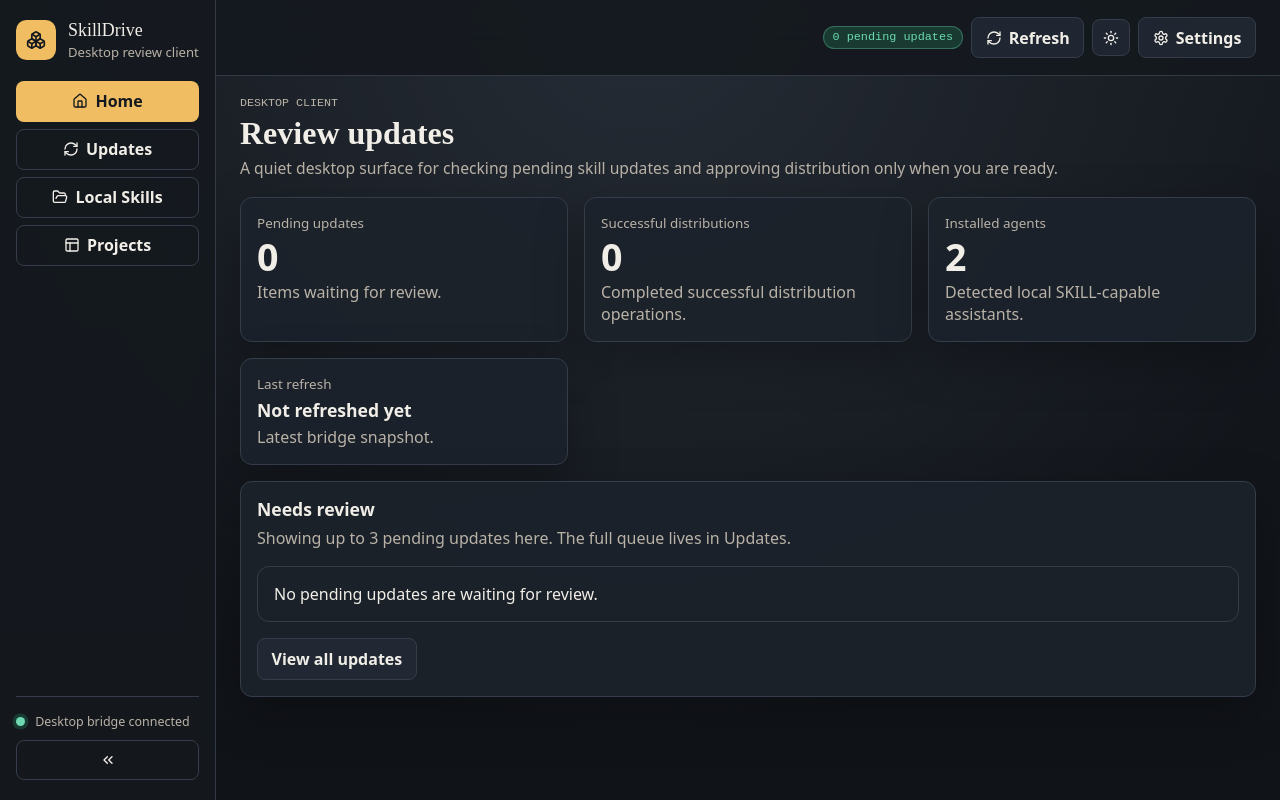
Scenario: App › rolls back the theme when persistence fails
Click the button named "Toggle theme".
click(1111, 38)  # box [1092, 19, 1130, 56]
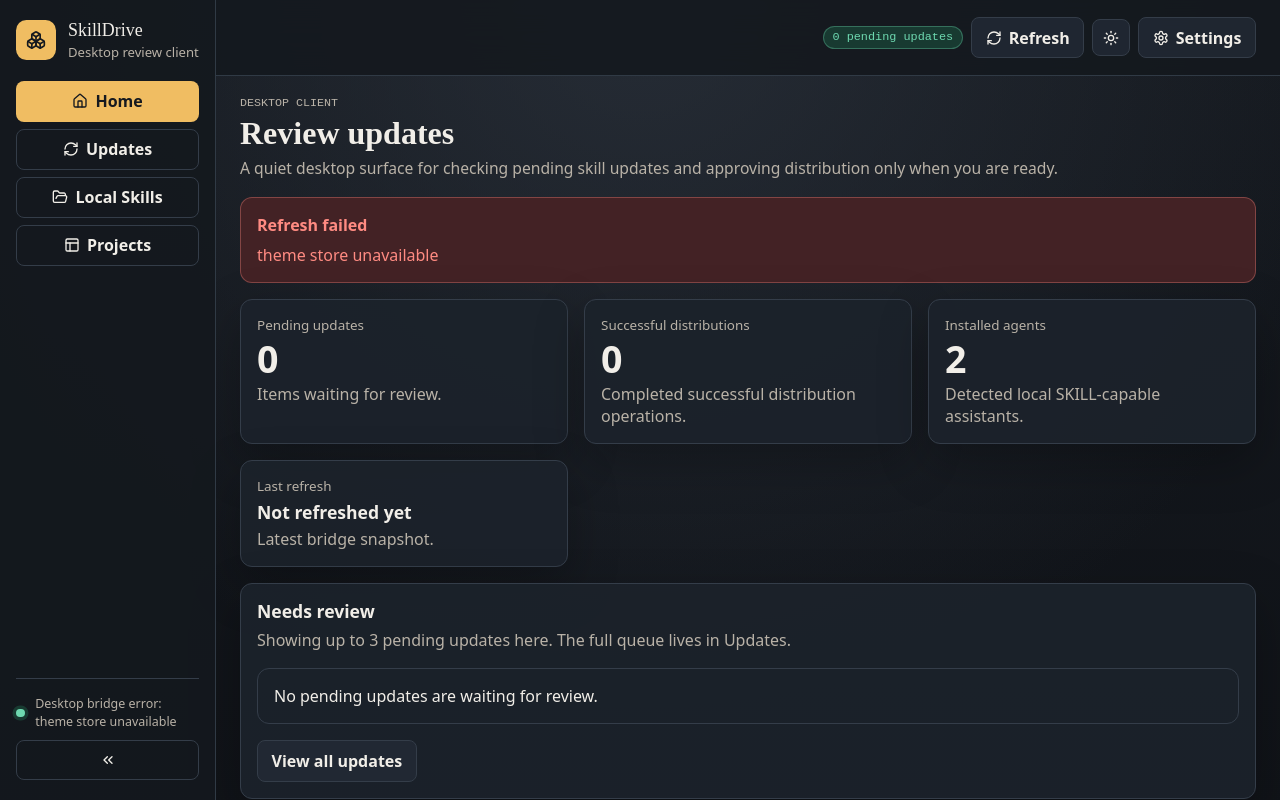
Expected: the text "Desktop bridge error: theme store unavailable" is shown, [35, 696, 199, 730]
